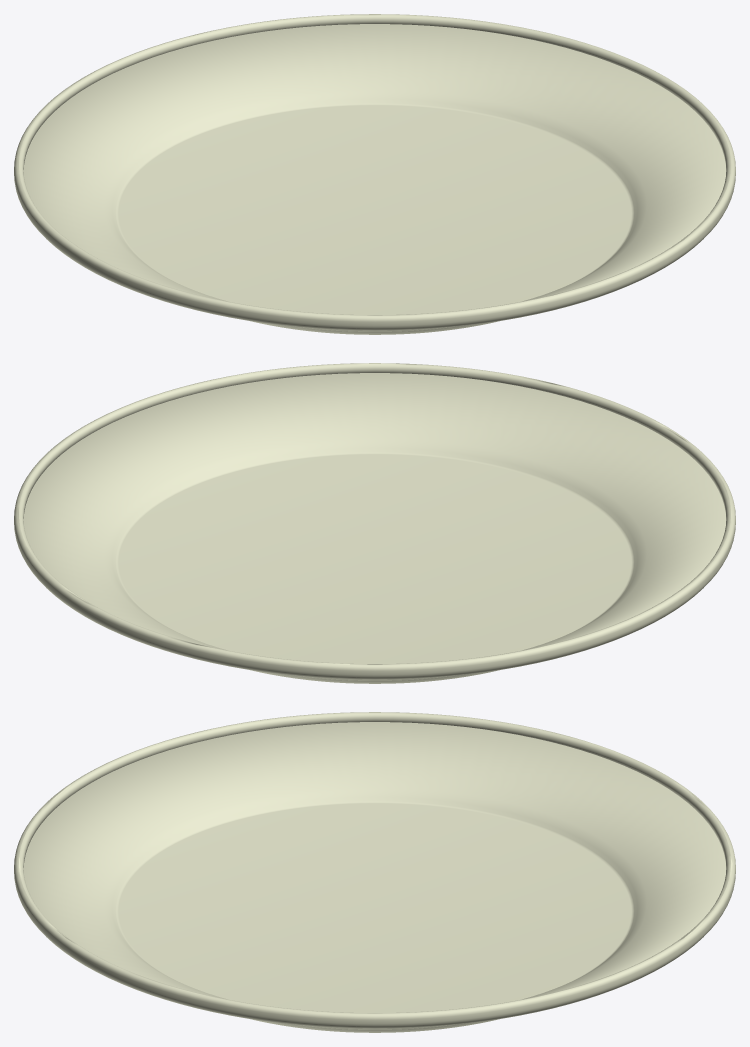
Rendered from plate.fbx.
3 views of the same model, one above another, from view 1: azimuth 30°, elevation 25°; view 2: azimuth 150°, elevation 25°; view 3: azimuth 270°, elevation 25° (orthographic).
Visible parts, largest first — view 1: Circle; view 2: Circle; view 3: Circle.
Part boxes in pixels (x1,y1,x2,y2): Circle: (14, 14, 735, 334); Circle: (14, 363, 735, 683); Circle: (14, 712, 735, 1032).
Size of the model in its own units: 29.79 by 2.79 by 29.79.
